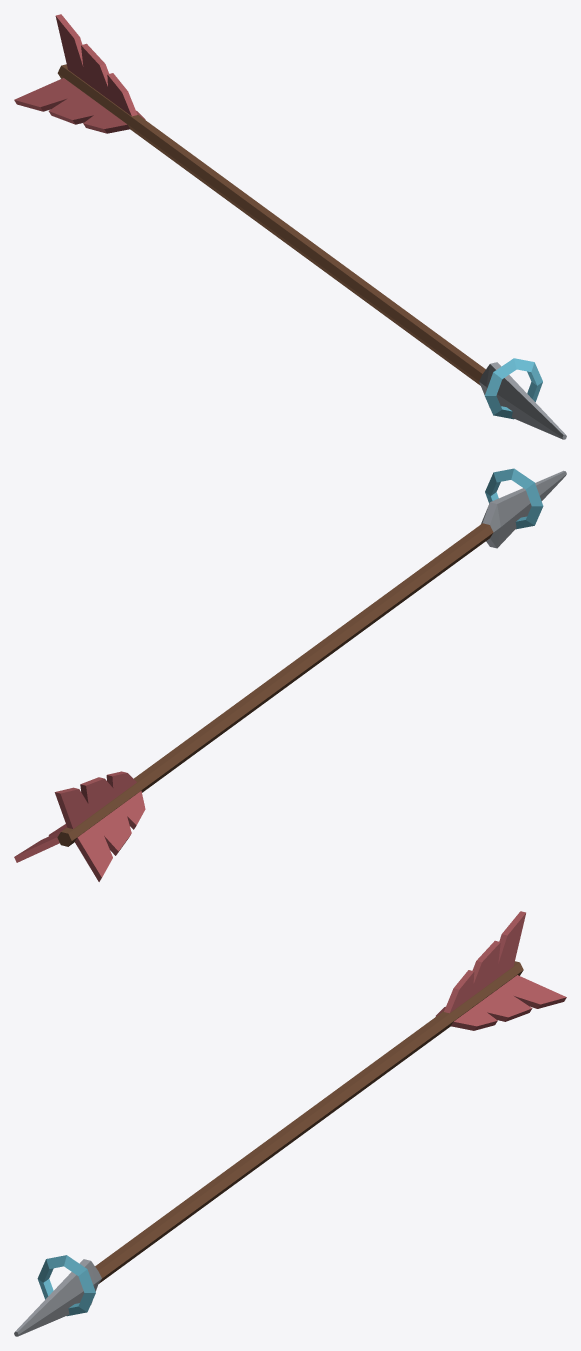
Rendered from vibrodart.glb.
3 renders of one model, top to bottom at view 1: azimuth 30°, elevation 25°; view 2: azimuth 150°, elevation 25°; view 3: azimuth 330°, elevation 25°, orthographic.
Visible parts, largest first — view 1: m; view 2: m; view 3: m.
Boxes of the visible parts, box(x1,y1,x2,y2) form: m: box(14, 14, 566, 439); m: box(14, 468, 566, 881); m: box(14, 911, 566, 1336).
Size of the model in its own units: 0.012 by 0.0105 by 0.12.
